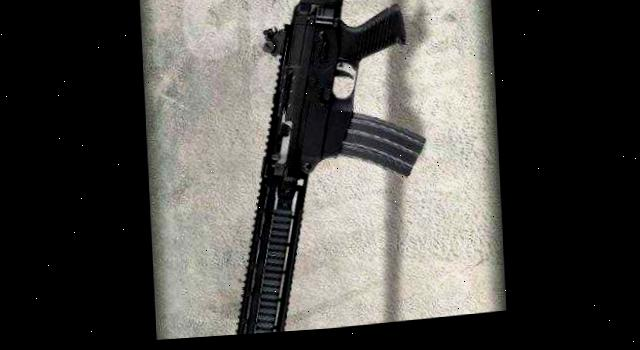rifle: (161, 0, 488, 342)
